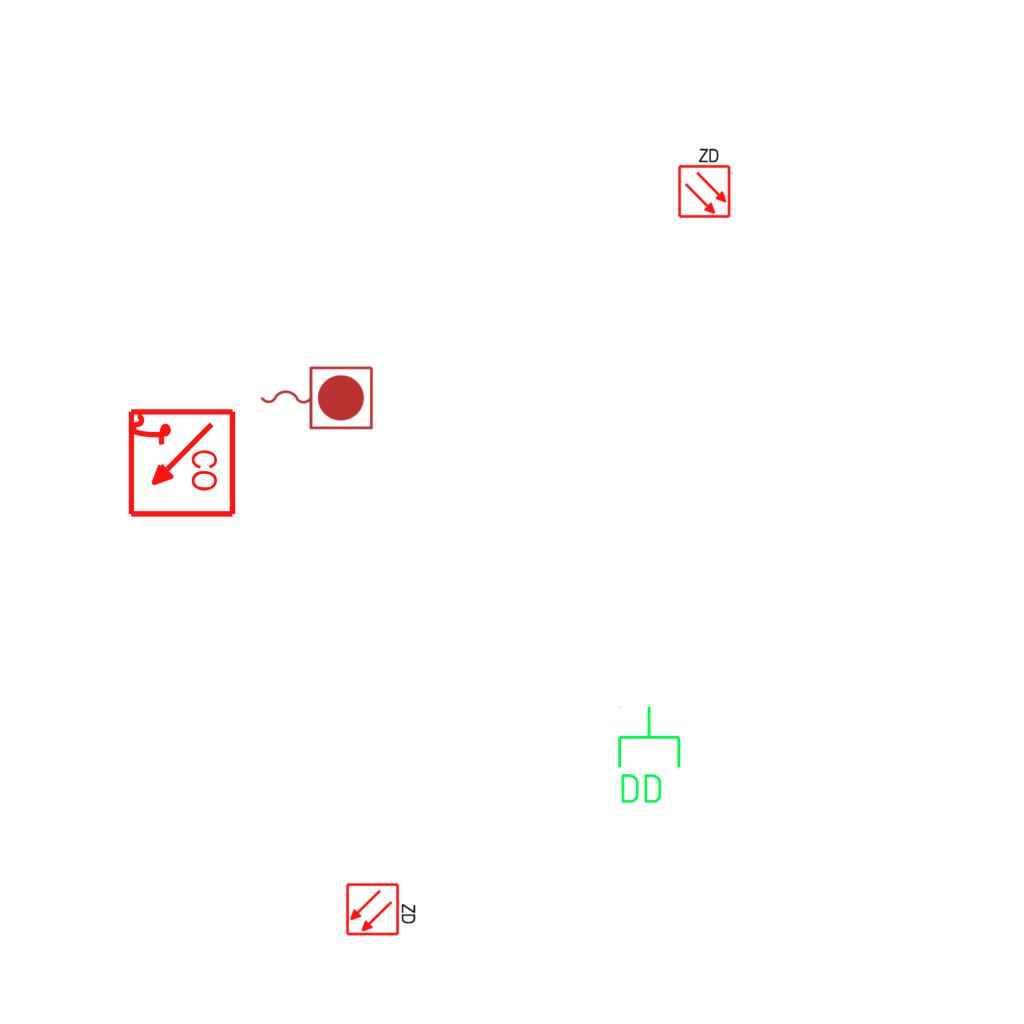Datenanschluss_zweifach: (614, 704, 683, 807)
ROA_Rauchmelder_optisch_mit_Signalgeber_(Sockelsirene): (124, 407, 237, 520)
ZD_Melder_in_Zwischendecke_mit_Revisionsoeffnung_mind_40_x_40_cm: (345, 880, 419, 937), (675, 145, 732, 219)
Zugtaster: (255, 361, 377, 433)
